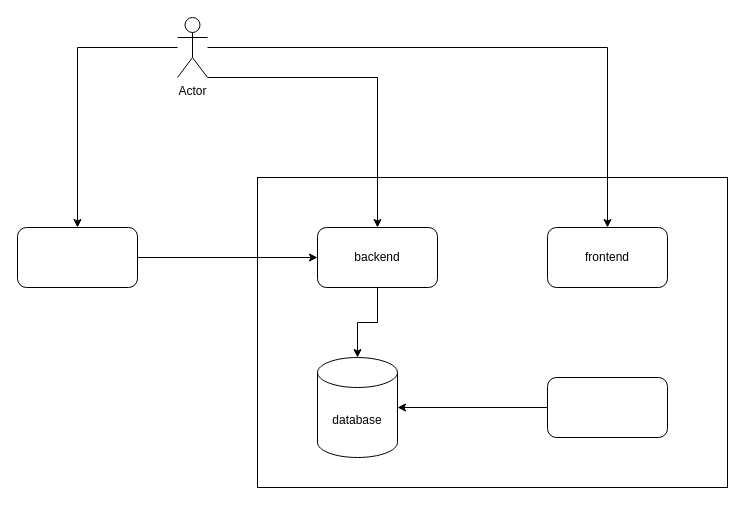
Image size: 745x505. Some labels were removed from this diagram. The centre of each missing label's shape, as x and y in pixels:
"cli" goes at (77,257).
"scheduler" goes at (607,407).
